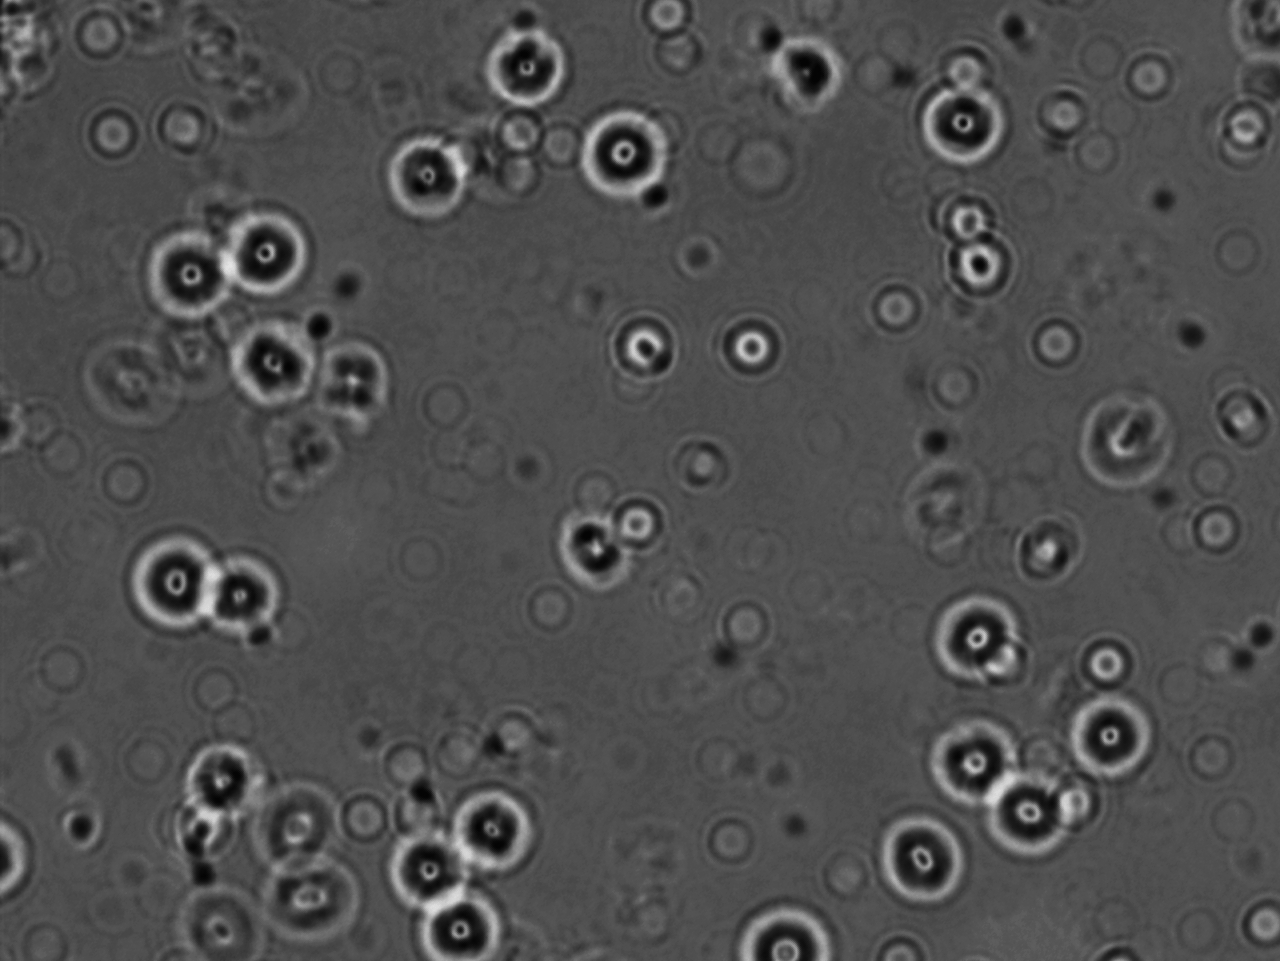depth:-8: (119, 526, 242, 647), (910, 73, 1022, 190), (919, 715, 1033, 822), (925, 577, 1029, 690), (195, 535, 295, 652), (873, 802, 979, 912), (212, 203, 315, 311), (477, 17, 578, 125), (366, 826, 485, 916), (543, 500, 646, 602), (570, 105, 670, 209), (980, 760, 1081, 862), (1057, 688, 1166, 782), (131, 232, 232, 330), (446, 785, 547, 879), (400, 875, 509, 961), (227, 319, 320, 417), (372, 137, 470, 228), (722, 895, 830, 961)
